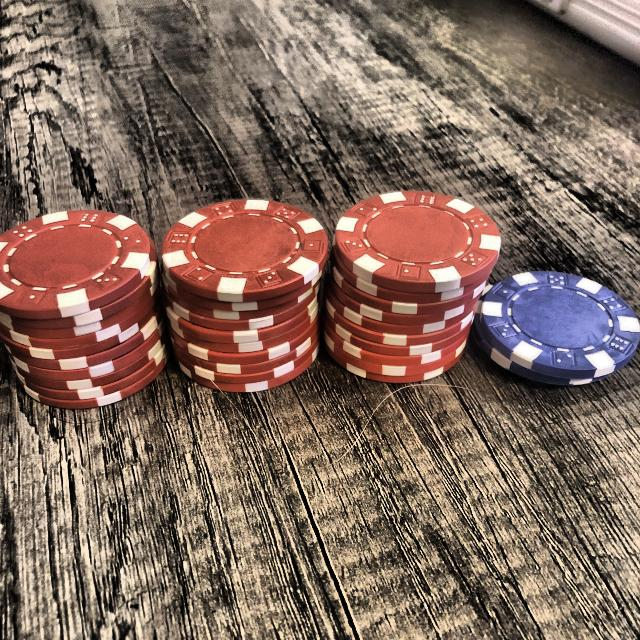Chip: (310, 165, 515, 402), (0, 181, 173, 420), (159, 175, 333, 408), (469, 246, 640, 397)
